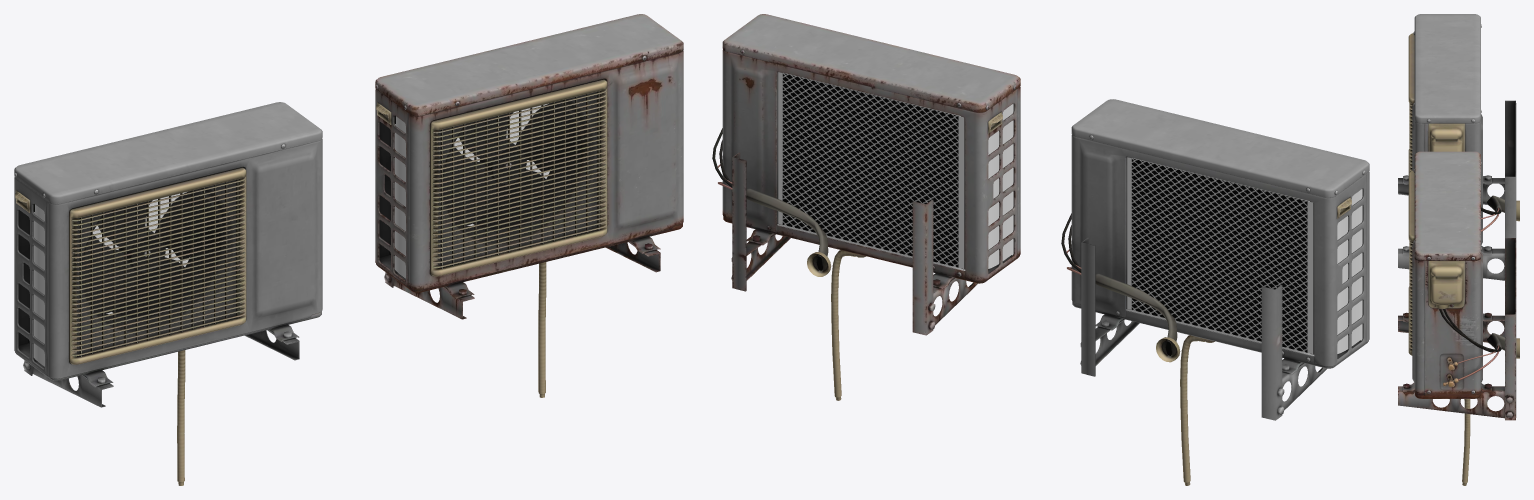
File: exterior_aircon_unit.glb
The picture shows the model from 3 angles, left to right: view 1: azimuth 30°, elevation 25°; view 2: azimuth 150°, elevation 25°; view 3: azimuth 270°, elevation 25°; orthographic projection. The views are drawn at different scales.
Parts seen in each view (by area): view 1: exterior_aircon_unit_rusted, exterior_aircon_unit; view 2: exterior_aircon_unit, exterior_aircon_unit_rusted; view 3: exterior_aircon_unit_rusted, exterior_aircon_unit.
Boxes of the visible parts, x1,y1,x2,y2 form: exterior_aircon_unit_rusted: [375, 14, 683, 397]; exterior_aircon_unit: [14, 102, 322, 485]; exterior_aircon_unit: [1061, 99, 1369, 485]; exterior_aircon_unit_rusted: [712, 14, 1020, 400]; exterior_aircon_unit_rusted: [1398, 151, 1519, 485]; exterior_aircon_unit: [1398, 14, 1519, 280].
Size of the model in its own units: 1.8 by 0.9279 by 0.3742.
4 materials, 4 textured.
